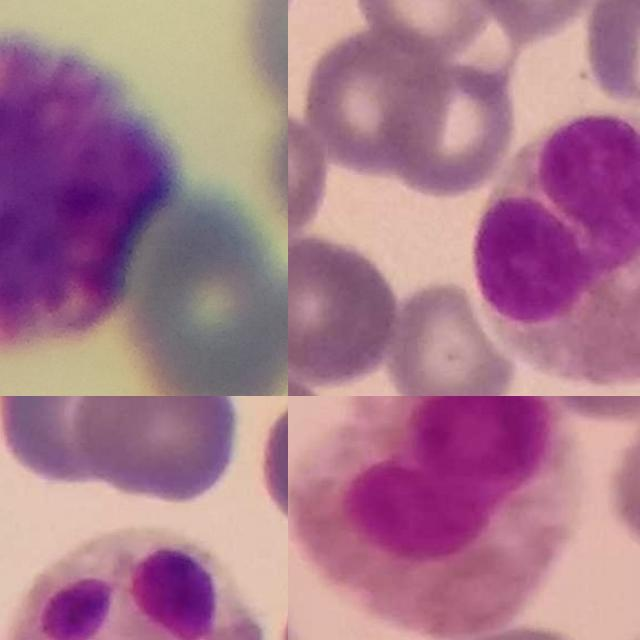Basophil: (0, 33, 171, 355)
Eosinophil: (291, 396, 573, 639), (472, 120, 640, 392), (0, 522, 270, 640)
